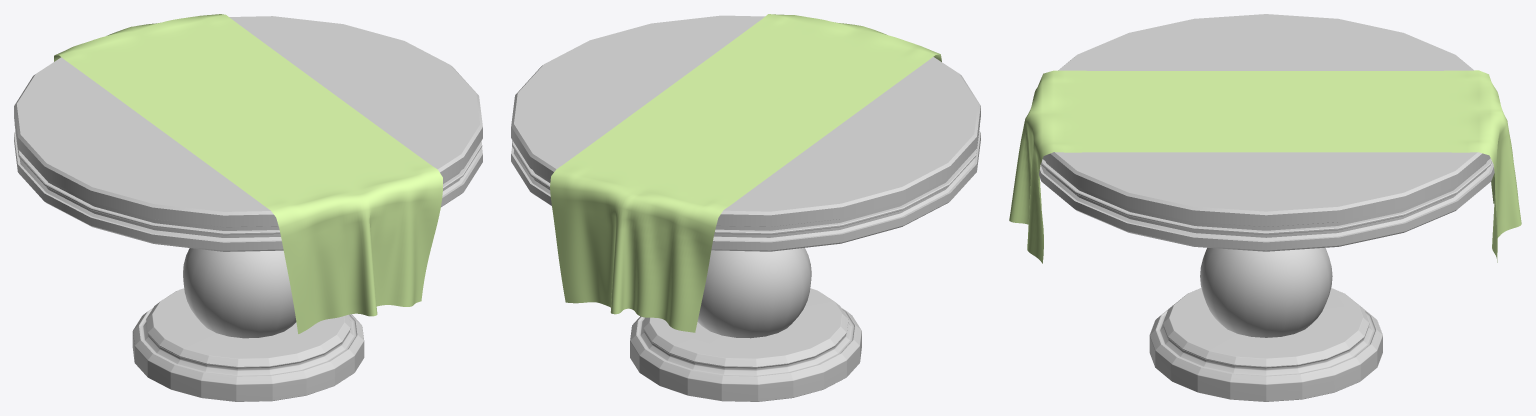
The model's file is RoundTableUVReady.fbx.
3 renders of one model, left to right at view 1: azimuth 30°, elevation 25°; view 2: azimuth 150°, elevation 25°; view 3: azimuth 270°, elevation 25°, orthographic.
Parts seen in each view (by area): view 1: Table, Runner, Runner1; view 2: Table, Runner, Runner1; view 3: Table, Runner, Runner1.
Boxes of the visible parts, <box> form: Table: <box>14,16,482,401</box>; Runner: <box>54,14,442,333</box>; Runner1: <box>54,14,442,331</box>; Table: <box>511,15,980,401</box>; Runner: <box>550,14,941,332</box>; Runner1: <box>550,14,941,331</box>; Table: <box>1039,14,1494,401</box>; Runner: <box>1009,70,1521,263</box>; Runner1: <box>1009,70,1520,260</box>.
Bounding box in the file's own units: 1152 × 656 × 1248.
